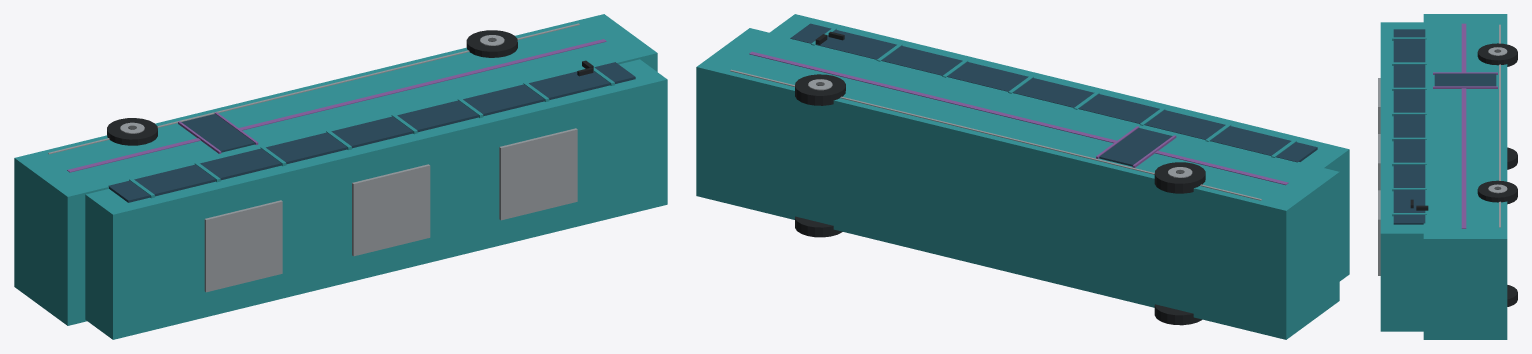
The model's file is RM_Bus_30.glb.
3 renders of one model, left to right at view 1: azimuth 30°, elevation 25°; view 2: azimuth 150°, elevation 25°; view 3: azimuth 270°, elevation 25°, orthographic. The views are drawn at different scales.
Visible parts, largest first — view 1: part_001, part_000, part_002, part_039, part_037, part_038, part_013, part_040, part_014, part_030, part_024; view 2: part_000, part_002, part_001, part_013, part_040, part_024, part_030, part_014, part_021, part_027; view 3: part_000, part_001, part_002, part_013, part_040, part_024, part_030, part_014, part_039, part_021, part_027, part_042 (+5 smaller).
Part boxes in pixels (bbox=[...]): part_001: bbox=[85, 59, 667, 339]; part_000: bbox=[14, 14, 657, 325]; part_002: bbox=[108, 62, 635, 202]; part_039: bbox=[499, 128, 577, 220]; part_037: bbox=[204, 200, 282, 292]; part_038: bbox=[352, 164, 430, 256]; part_013: bbox=[67, 39, 606, 172]; part_040: bbox=[181, 114, 254, 152]; part_014: bbox=[48, 23, 579, 154]; part_030: bbox=[466, 30, 517, 57]; part_024: bbox=[107, 118, 157, 145]; part_000: bbox=[696, 28, 1339, 339]; part_002: bbox=[790, 23, 1317, 162]; part_001: bbox=[770, 14, 1349, 281]; part_013: bbox=[749, 51, 1288, 185]; part_040: bbox=[1099, 128, 1172, 166]; part_024: bbox=[1154, 162, 1205, 193]; part_030: bbox=[795, 74, 845, 105]; part_014: bbox=[730, 69, 1261, 200]; part_021: bbox=[1154, 304, 1202, 325]; part_027: bbox=[795, 216, 842, 237]; part_000: bbox=[1423, 14, 1507, 339]; part_001: bbox=[1380, 22, 1423, 331]; part_002: bbox=[1393, 29, 1425, 224]; part_013: bbox=[1461, 23, 1466, 228]; part_040: bbox=[1434, 73, 1496, 86]; part_024: bbox=[1477, 43, 1517, 66]; part_030: bbox=[1477, 180, 1517, 204]; part_014: bbox=[1499, 24, 1500, 227]; part_039: bbox=[1378, 190, 1380, 275]; part_021: bbox=[1507, 147, 1517, 169]; part_027: bbox=[1507, 285, 1517, 306]; part_042: bbox=[1433, 86, 1497, 88].
Size of the model in its own units: 12.48 by 2.93 by 3.28.
